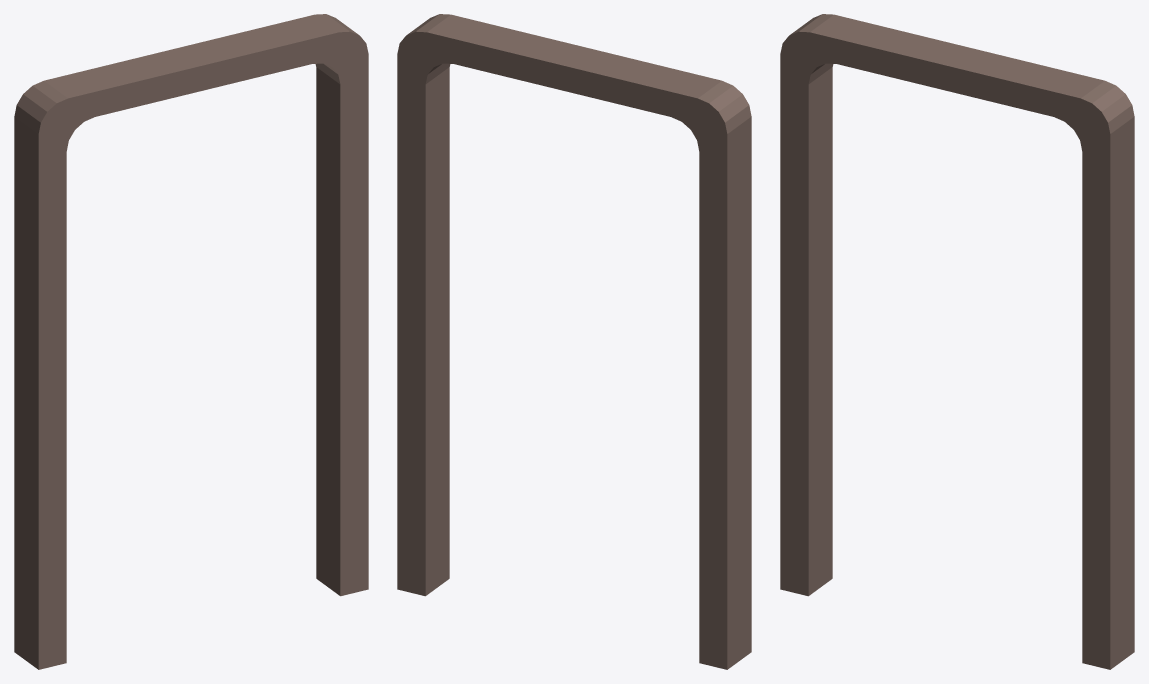
Rendered from doorFrame.fbx.
3 renders of one model, left to right at view 1: azimuth 30°, elevation 25°; view 2: azimuth 150°, elevation 25°; view 3: azimuth 330°, elevation 25°, orthographic.
Visible parts, largest first — view 1: Wall.002; view 2: Wall.002; view 3: Wall.002.
Boxes of the visible parts, box(x1,y1,x2,y2) form: Wall.002: box(14, 14, 368, 669); Wall.002: box(397, 14, 751, 669); Wall.002: box(780, 14, 1134, 669).
Bounding box in the file's own units: 157 × 256 × 19.96.
